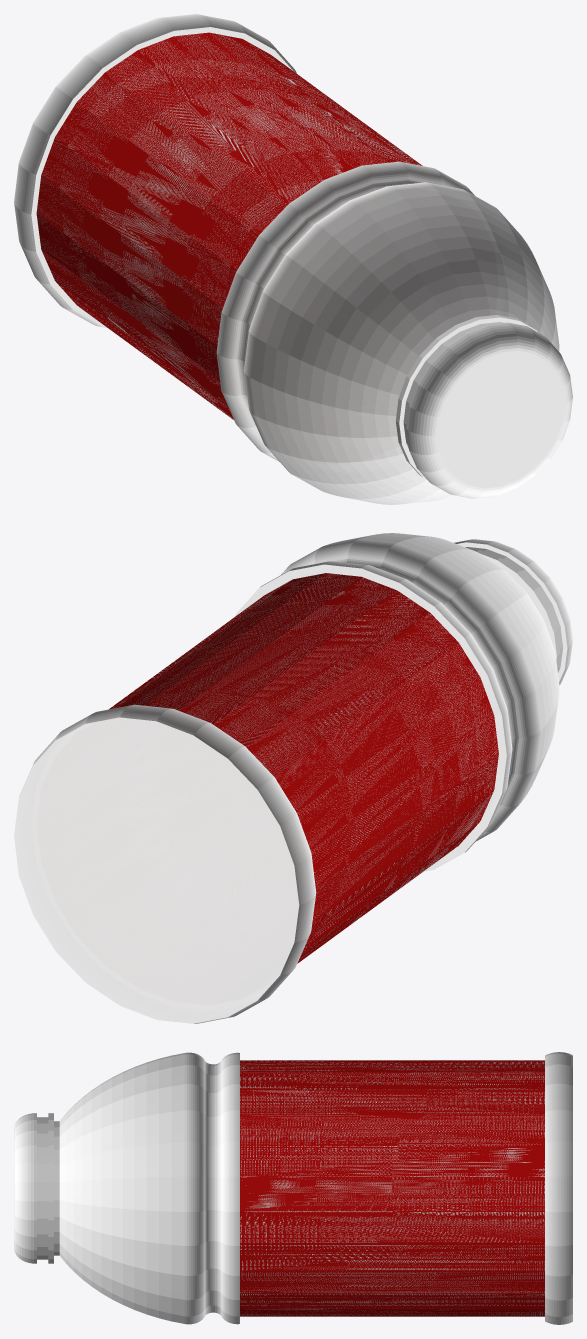
Rendered from model_scale.obj.
3 renders of one model, top to bottom at view 1: azimuth 30°, elevation 25°; view 2: azimuth 150°, elevation 25°; view 3: azimuth 270°, elevation 25°, orthographic. The views are drawn at different scales.
Parts seen in each view (by area): view 1: mesh1_mesh1-geometry; view 2: mesh1_mesh1-geometry; view 3: mesh1_mesh1-geometry.
Boxes of the visible parts, bbox=[...] form: mesh1_mesh1-geometry: bbox=[14, 14, 572, 504]; mesh1_mesh1-geometry: bbox=[14, 533, 572, 1023]; mesh1_mesh1-geometry: bbox=[14, 1052, 572, 1324].
Size of the model in its own units: 0.066 by 0.066 by 0.1347.
